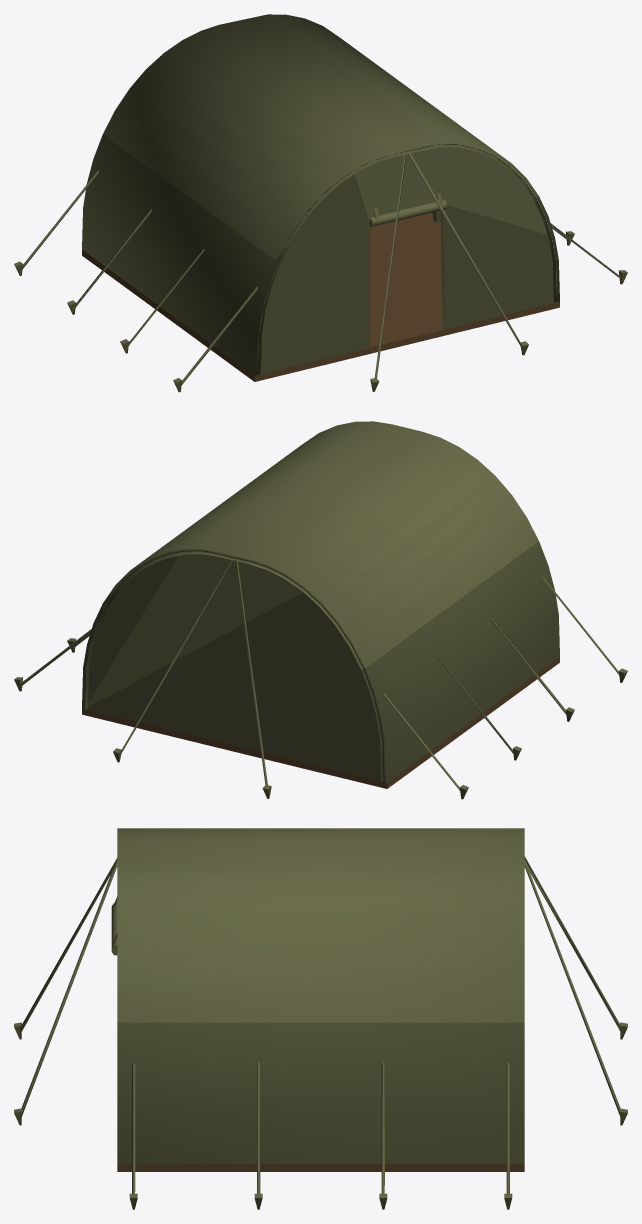
Rendered from army-tent.paint-v1.lod1.glb.
3 renders of one model, top to bottom at view 1: azimuth 30°, elevation 25°; view 2: azimuth 150°, elevation 25°; view 3: azimuth 270°, elevation 25°, orthographic. The views are drawn at different scales.
Parts seen in each view (by area): view 1: Object_2; view 2: Object_2; view 3: Object_2.
Boxes of the visible parts, left/top/right/bottom form: Object_2: left=14, top=14, right=627, bottom=392; Object_2: left=14, top=421, right=627, bottom=799; Object_2: left=14, top=828, right=627, bottom=1209.
Size of the model in its own units: 7.5 by 3.13 by 7.5.
